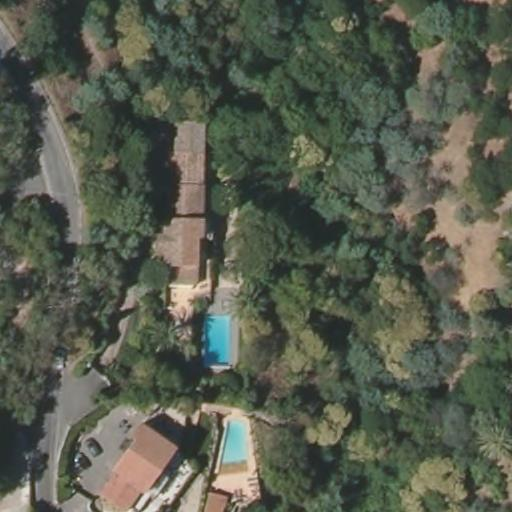pool: (206, 310, 235, 370), (219, 412, 250, 468)
